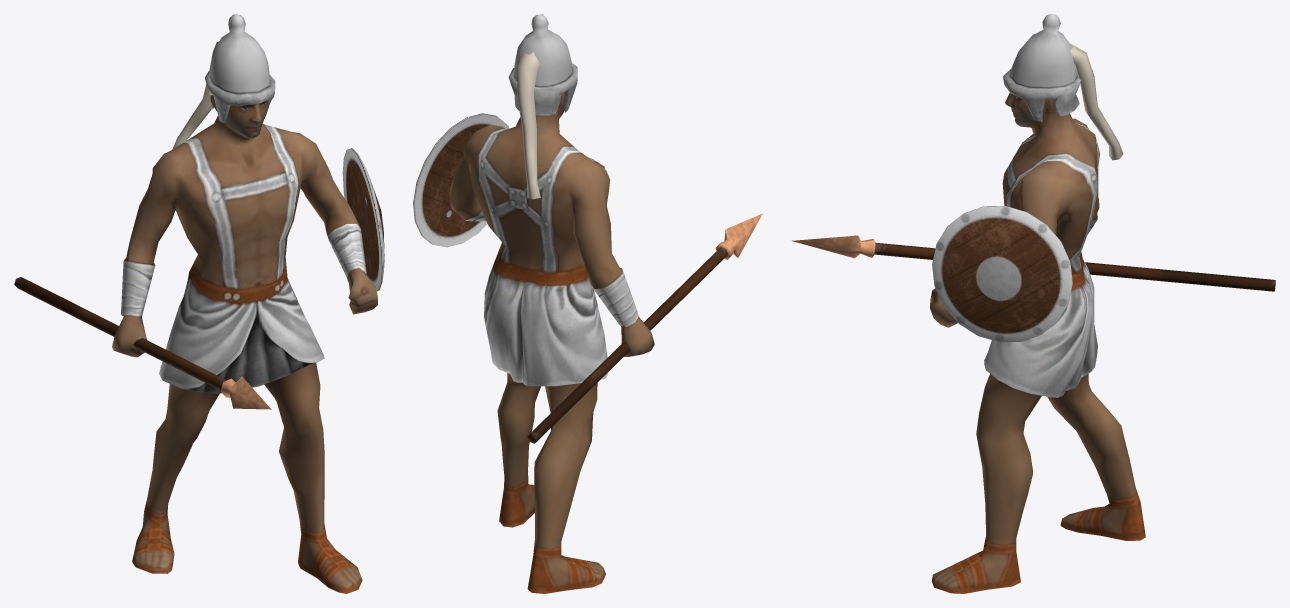
The model's file is 8-spearman.glb.
3 renders of one model, left to right at view 1: azimuth 30°, elevation 25°; view 2: azimuth 150°, elevation 25°; view 3: azimuth 270°, elevation 25°, orthographic. The views are drawn at different scales.
Bounding box in the file's own units: 1 × 2.19 × 1.77.
5 materials, 4 textured.
